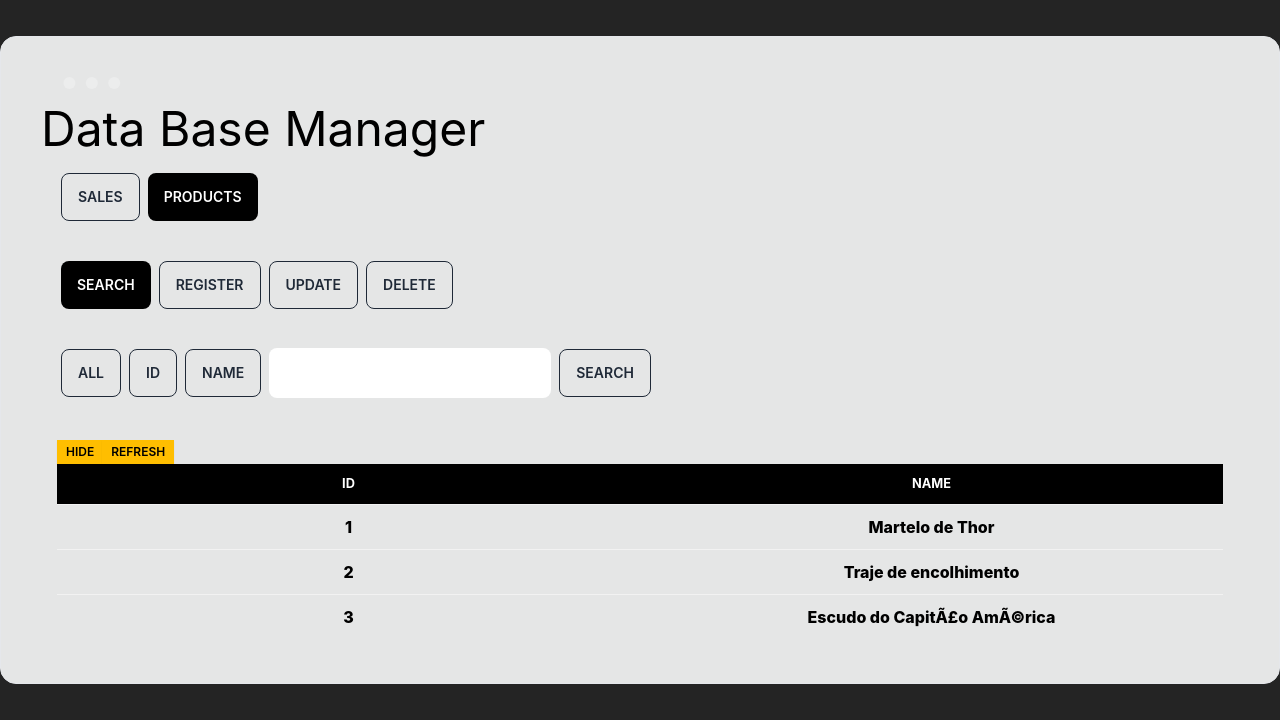
Test case: PRODUCTS FUNCTION - TEST › Search by "ID"
Click the button "id": point(153, 373) [129,349,177,397]
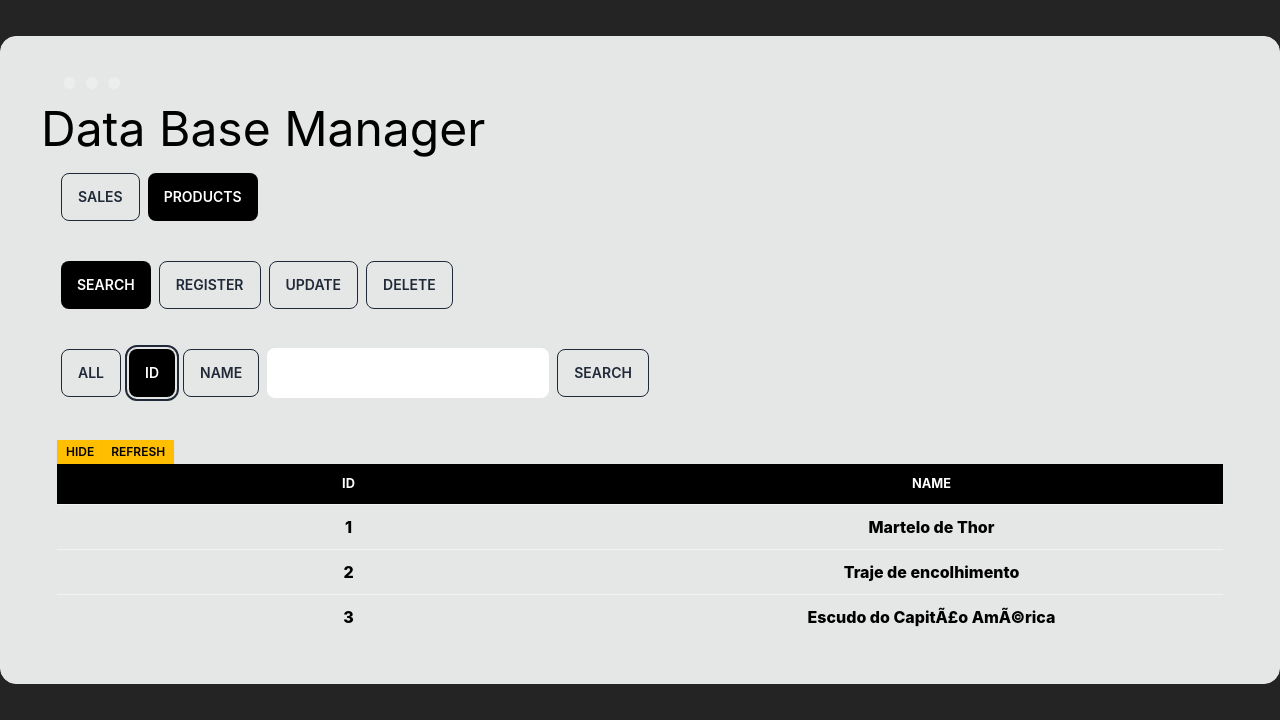
In the field: point(408, 373) [267,348,549,398], type "1"
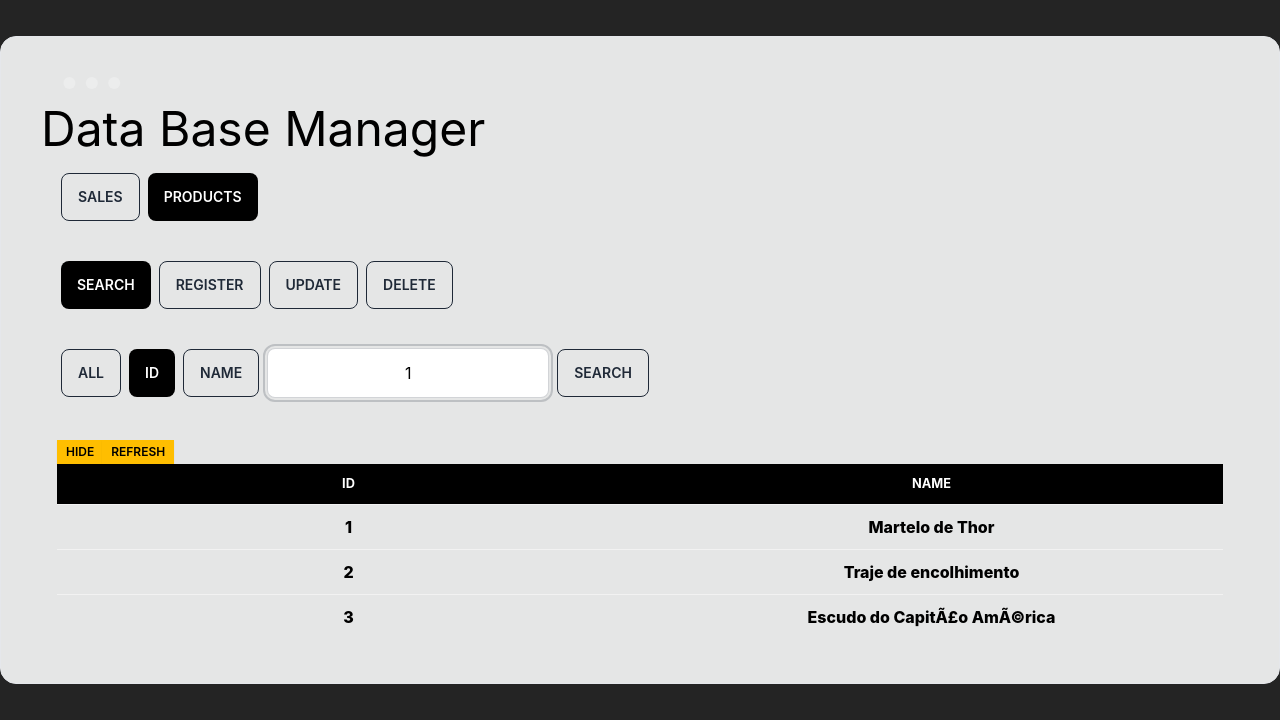
Click the button "SEARCH": point(603, 373) [557,349,649,397]
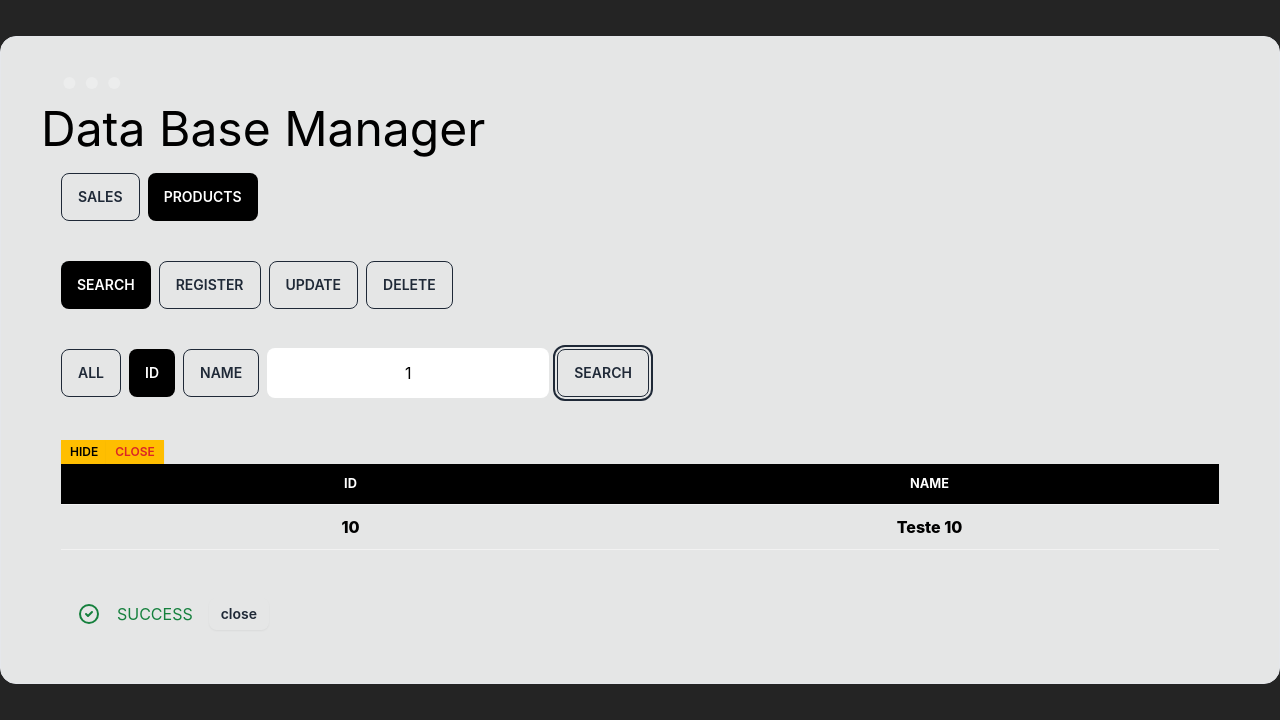
Expected: the row "10 Teste 10" is shown, [61,504,1219,550]
Expected: the text "SUCCESS" is shown, [117,604,193,624]
